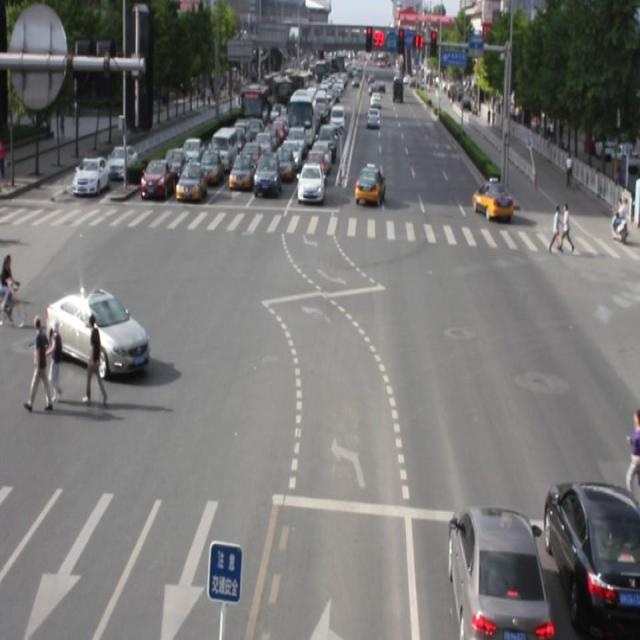car: (542, 487, 640, 640), (446, 513, 544, 640), (46, 288, 150, 376)
